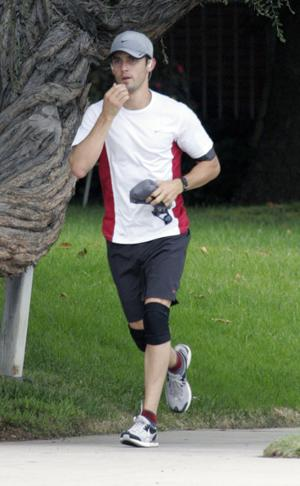person: (69, 27, 221, 448)
